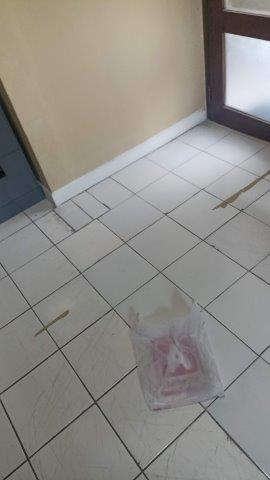plastik: (131, 304, 226, 411)
